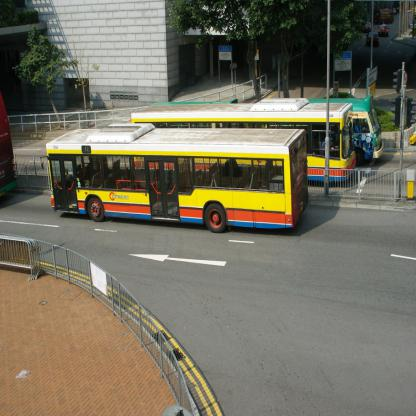Bus: (40, 121, 312, 235), (128, 101, 359, 185), (145, 97, 385, 159), (0, 95, 21, 198)
